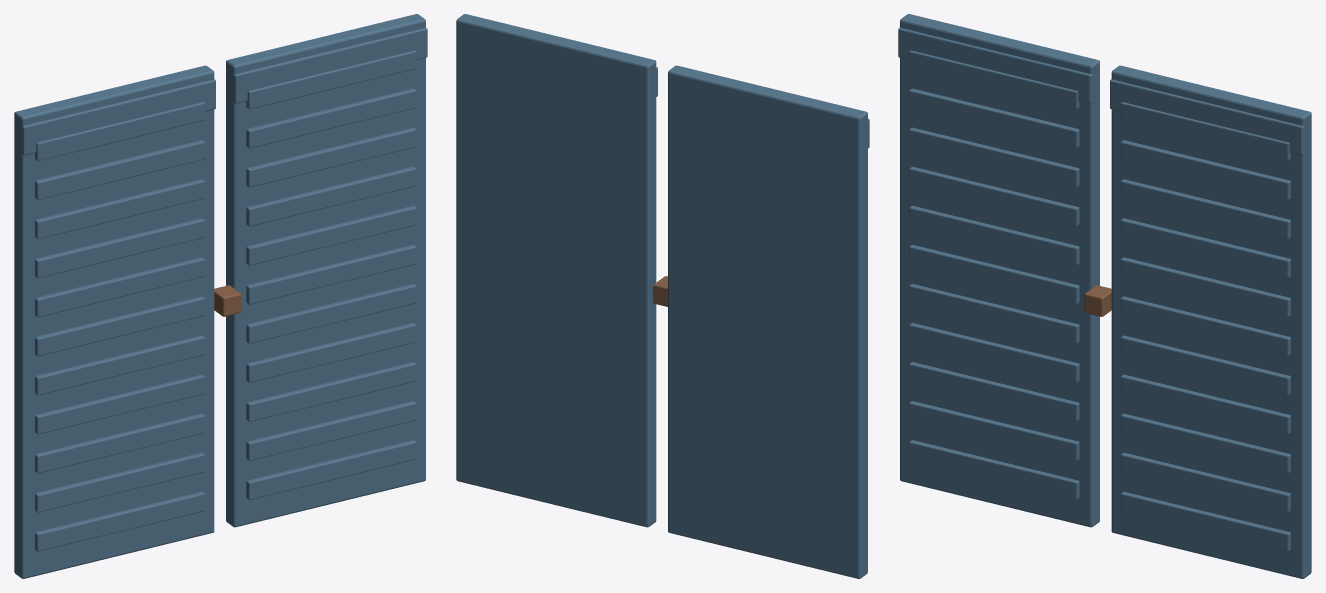
Rendered from prop_shutter.glb.
3 renders of one model, left to right at view 1: azimuth 30°, elevation 25°; view 2: azimuth 150°, elevation 25°; view 3: azimuth 330°, elevation 25°, orthographic.
Visible parts, largest first — view 1: Cube, Cube.013, Cube.012, Cube.025, Cube.022, Cube.021, Cube.023, Cube.020, Cube.019, Cube.014, Cube.015, Cube.016 (+15 smaller); view 2: Cube.013, Cube; view 3: Cube.013, Cube, Cube.025, Cube.012, Cube.009, Cube.008, Cube.010, Cube.007, Cube.006, Cube.001, Cube.002, Cube.003 (+15 smaller).
Part boxes in pixels (x1,y1,x2,y2): Cube: (14,65,214,578); Cube.013: (226,14,425,527); Cube.012: (14,79,215,155); Cube.025: (231,27,427,103); Cube.022: (246,127,416,187); Cube.021: (246,166,416,226); Cube.023: (246,88,416,148); Cube.020: (246,205,416,265); Cube.019: (246,244,416,304); Cube.014: (246,440,416,499); Cube.015: (246,401,416,460); Cube.016: (246,362,416,421); Cube.013: (456,14,656,527); Cube: (668,65,867,578); Cube.013: (1111,65,1311,578); Cube: (900,14,1099,527); Cube.025: (1110,79,1311,155); Cube.012: (898,27,1094,103); Cube.009: (909,127,1079,187); Cube.008: (909,166,1079,226); Cube.010: (909,88,1079,148); Cube.007: (909,205,1079,265); Cube.006: (909,244,1079,304); Cube.001: (909,440,1079,499); Cube.002: (909,401,1079,460); Cube.003: (909,362,1079,421).
Size of the model in its own units: 1.3 by 1.42 by 0.095.
